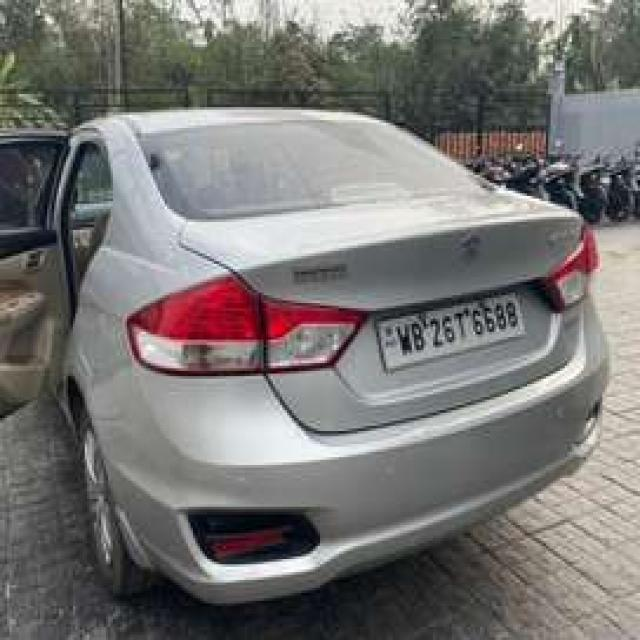Plate: (373, 289, 523, 370)
